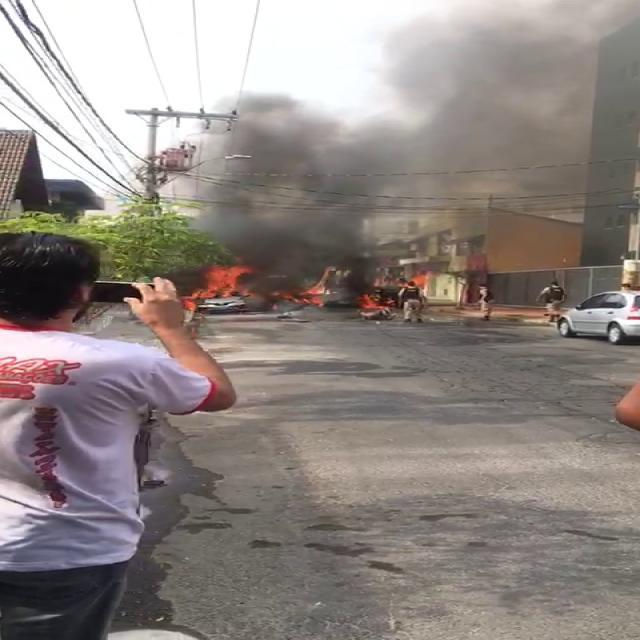Fire: (277, 268, 434, 312), (190, 264, 253, 300)
Smoke: (357, 0, 640, 238), (198, 93, 356, 260)
